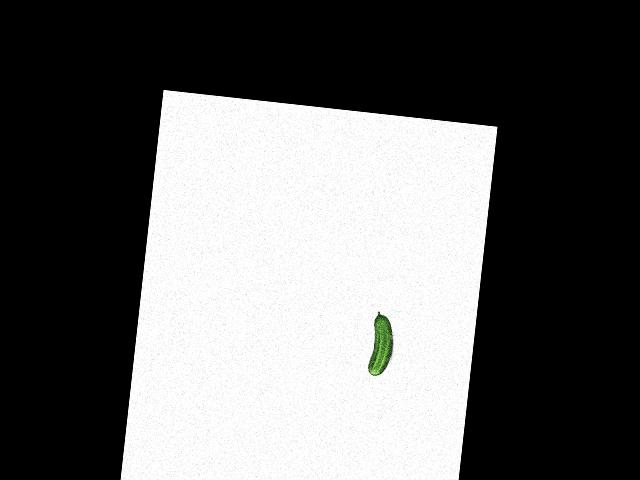cucumber: (367, 311, 396, 377)
